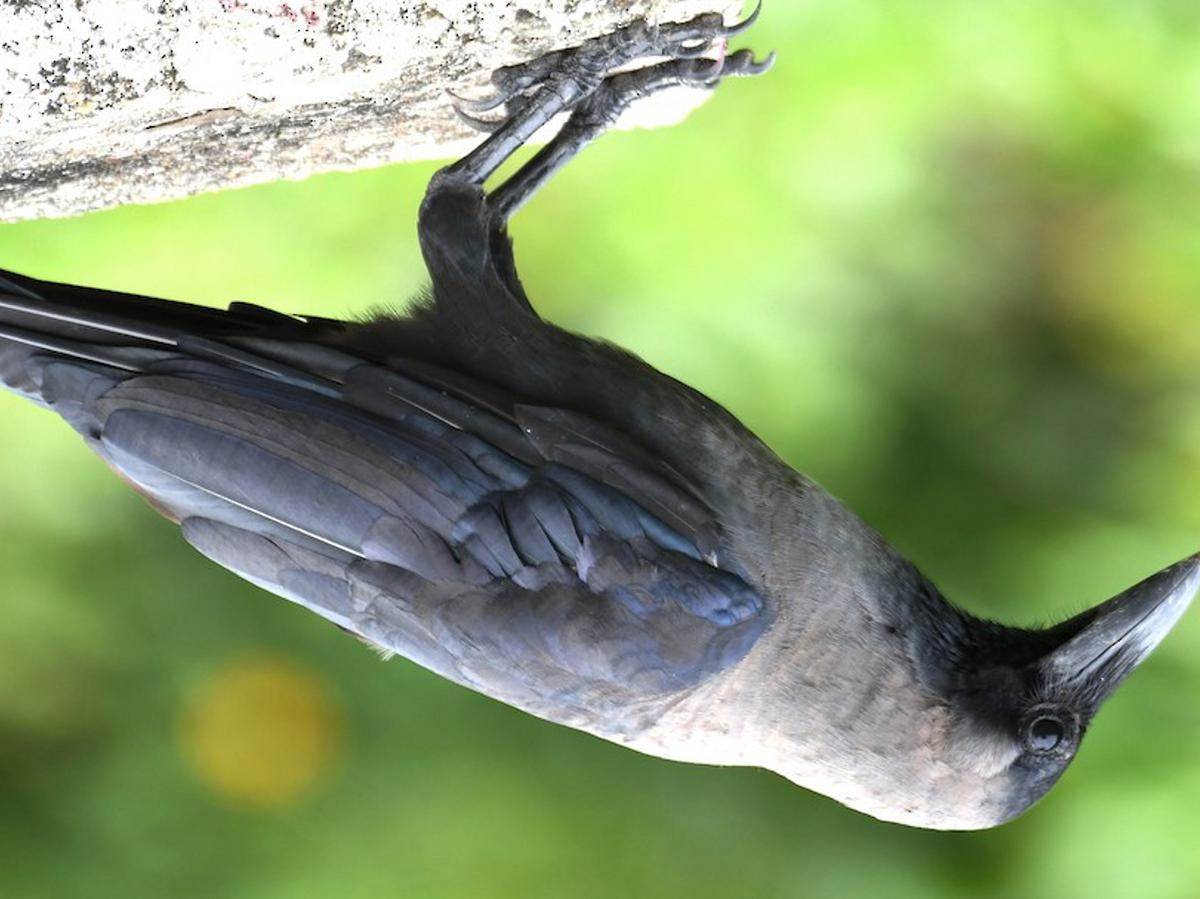crow: (1, 38, 1198, 859)
